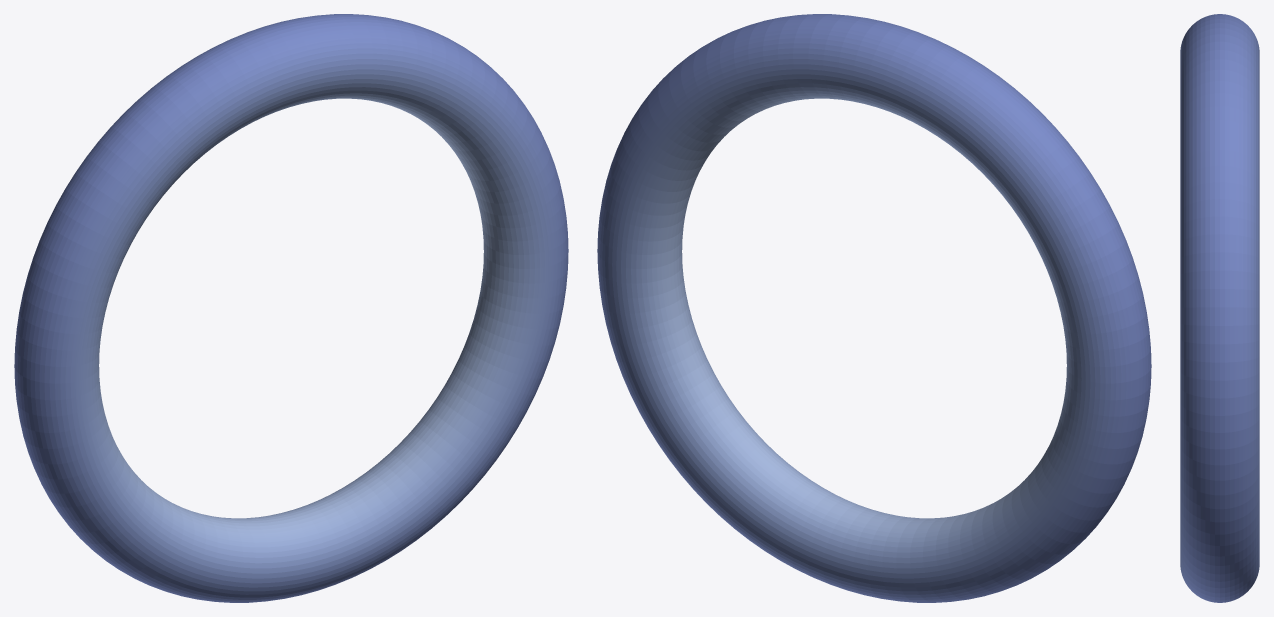
3 views of the same model, side by side, from view 1: azimuth 30°, elevation 25°; view 2: azimuth 150°, elevation 25°; view 3: azimuth 270°, elevation 25° (orthographic). The views are drawn at different scales.
Parts seen in each view (by area): view 1: world; view 2: world; view 3: world.
Part boxes in pixels (x1,y1,x2,y2): world: [14, 14, 568, 602]; world: [597, 14, 1151, 602]; world: [1180, 14, 1259, 602].
Size of the model in its own units: 24.67 by 24.67 by 3.33.
